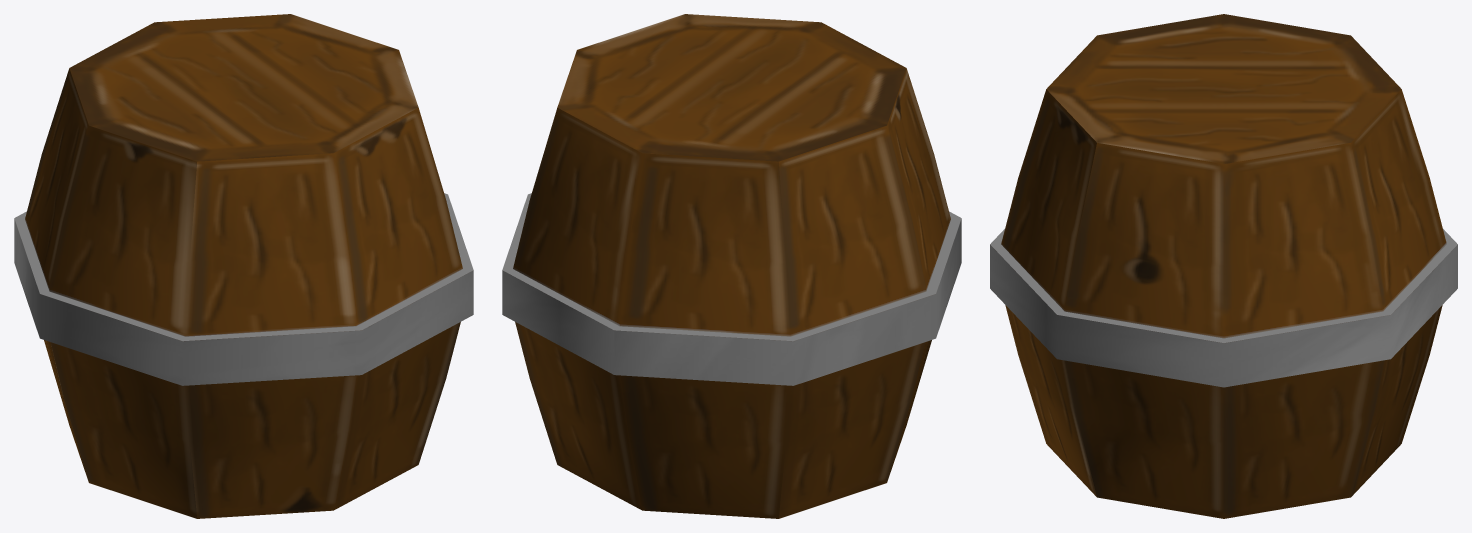
The model's file is Barrel.fbx.
The picture shows the model from 3 angles, left to right: view 1: azimuth 30°, elevation 25°; view 2: azimuth 150°, elevation 25°; view 3: azimuth 270°, elevation 25°; orthographic projection.
Visible parts, largest first — view 1: barrel_1; view 2: barrel_1; view 3: barrel_1.
Part boxes in pixels (x1,y1,x2,y2): barrel_1: [14, 14, 473, 518]; barrel_1: [502, 14, 961, 518]; barrel_1: [990, 14, 1457, 518].
Bounding box in the file's own units: 4.94 × 4.13 × 4.94.
Materials: 1 (1 with a texture image).
